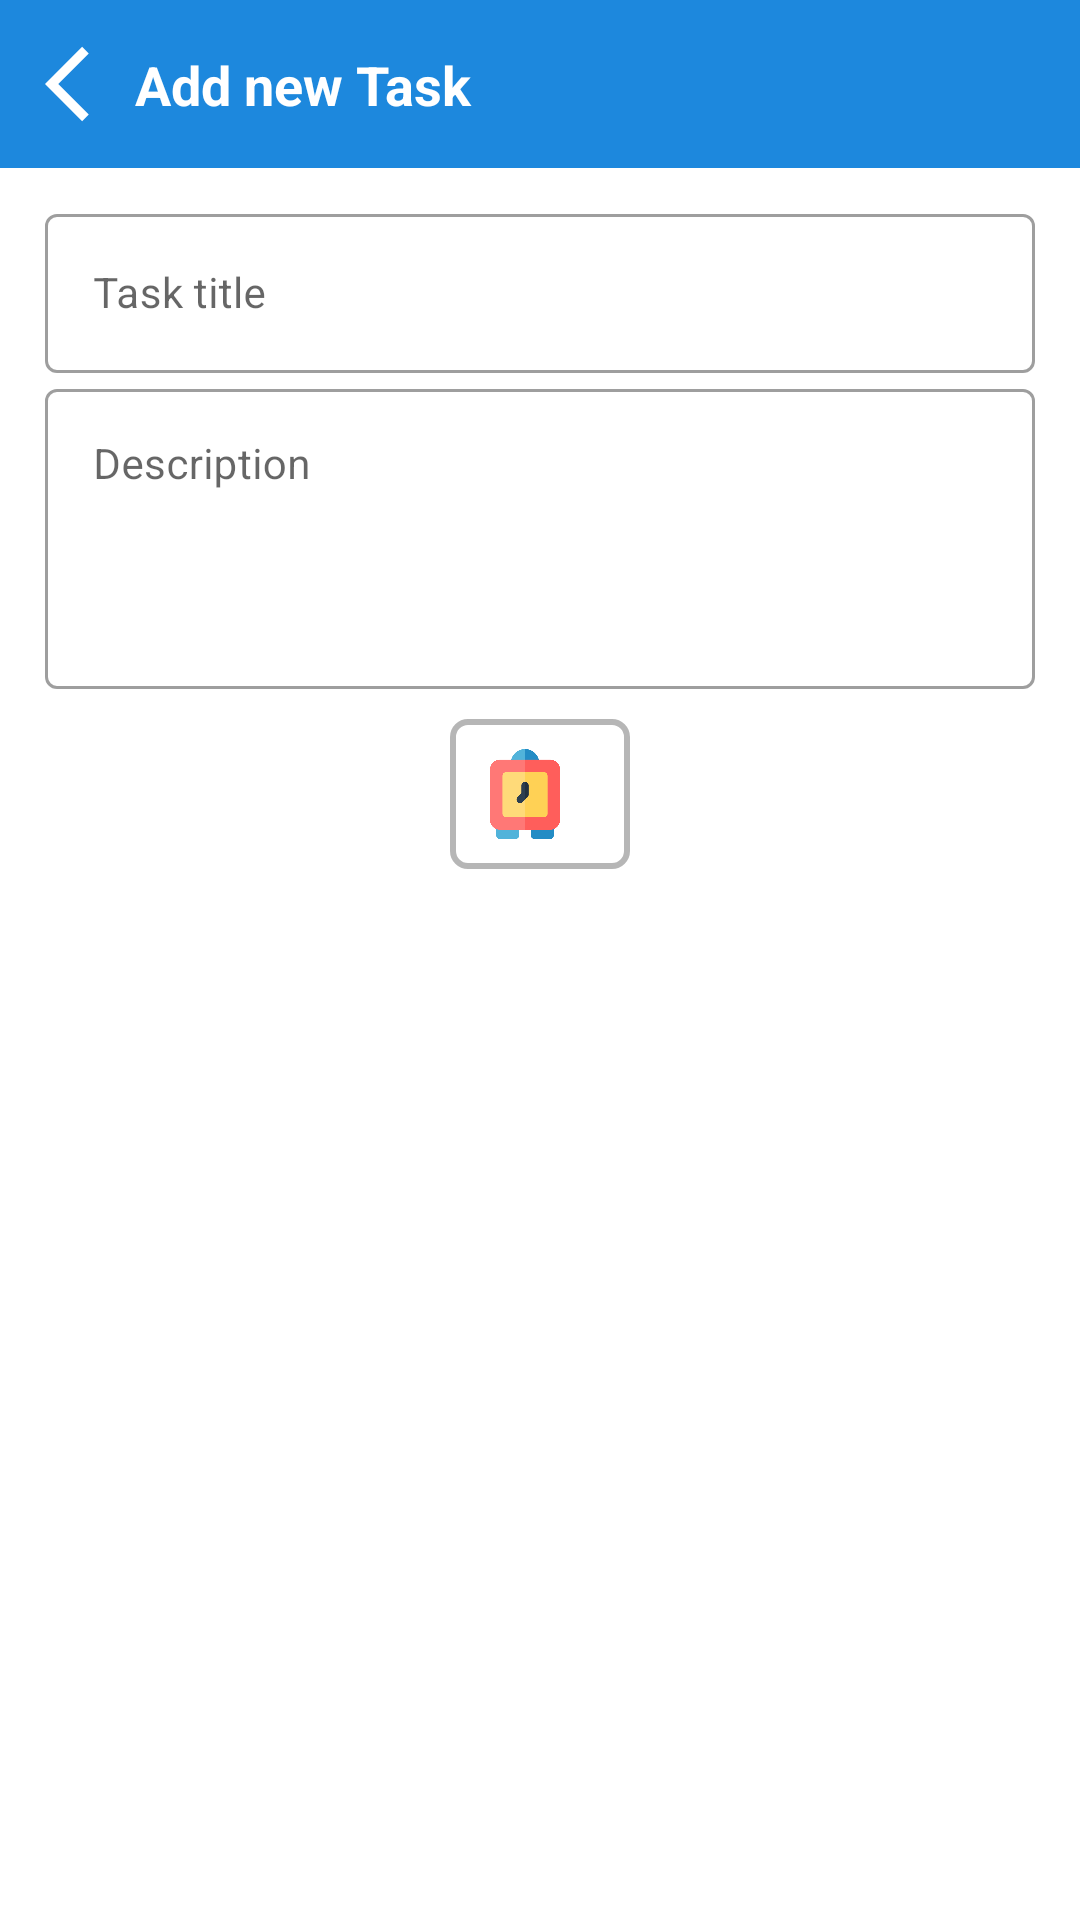

Named icons in this screenshot (1080*1920) and their bounding boxes, (x1, y1, x2, y2):
arrow back: (45, 47, 89, 121)
time: (490, 749, 560, 839)
